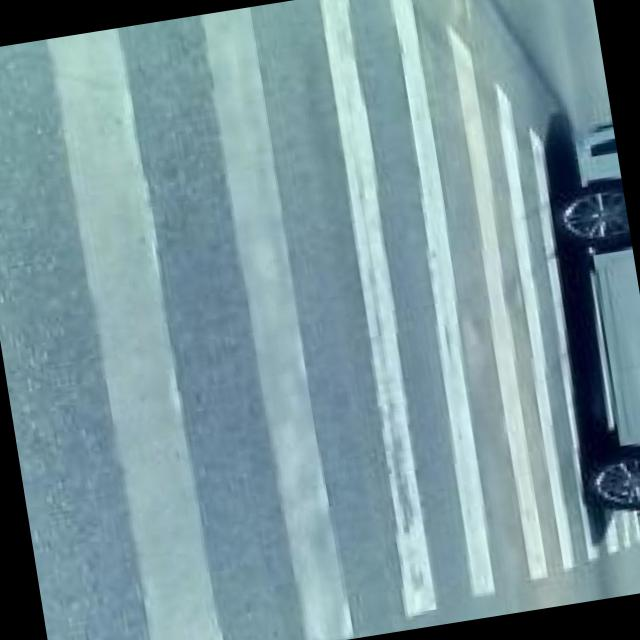zebra: (28, 0, 640, 640)
